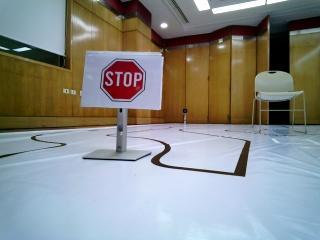stop: (88, 56, 156, 102)
